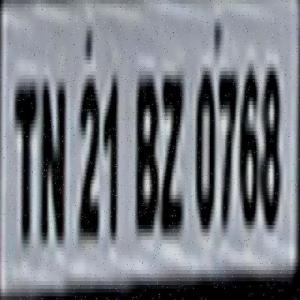Plate: (4, 6, 300, 297)
